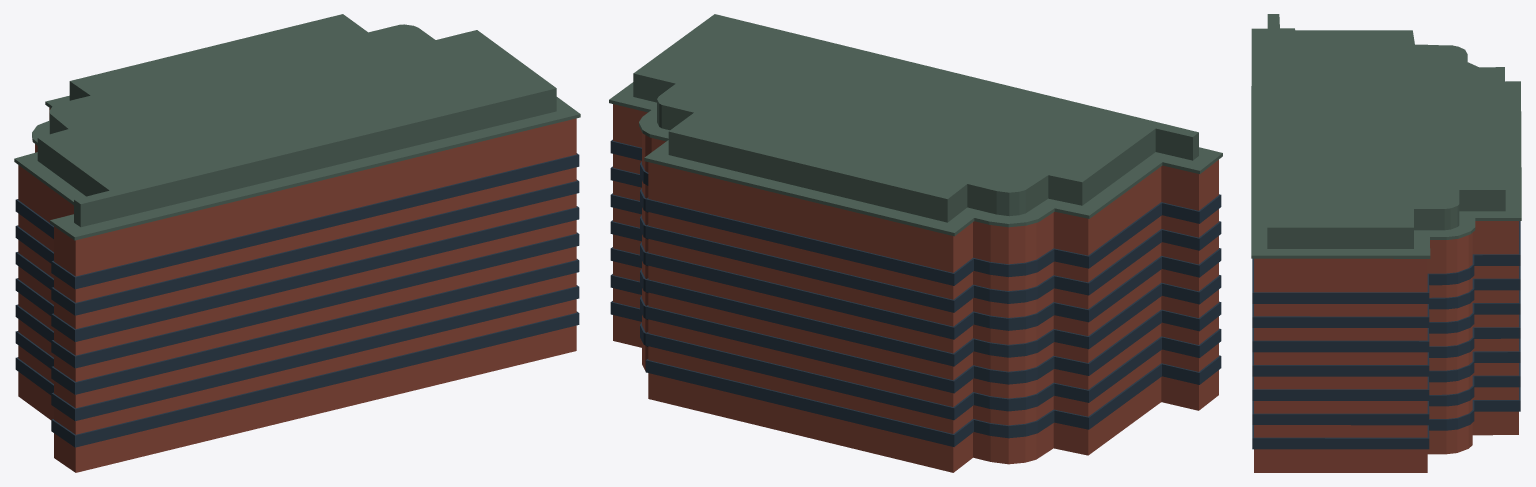
File: 50_south_200_east.glb
The picture shows the model from 3 angles, left to right: view 1: azimuth 30°, elevation 25°; view 2: azimuth 150°, elevation 25°; view 3: azimuth 270°, elevation 25°; orthographic projection. The views are drawn at different scales.
Parts seen in each view (by area): view 1: 50_South_200_East; view 2: 50_South_200_East; view 3: 50_South_200_East.
Boxes of the visible parts, x1,y1,x2,y2 form: 50_South_200_East: (14,14,580,472); 50_South_200_East: (609,14,1222,472); 50_South_200_East: (1251,14,1521,472).
Size of the model in its own units: 80.47 by 39.5 by 40.44.
